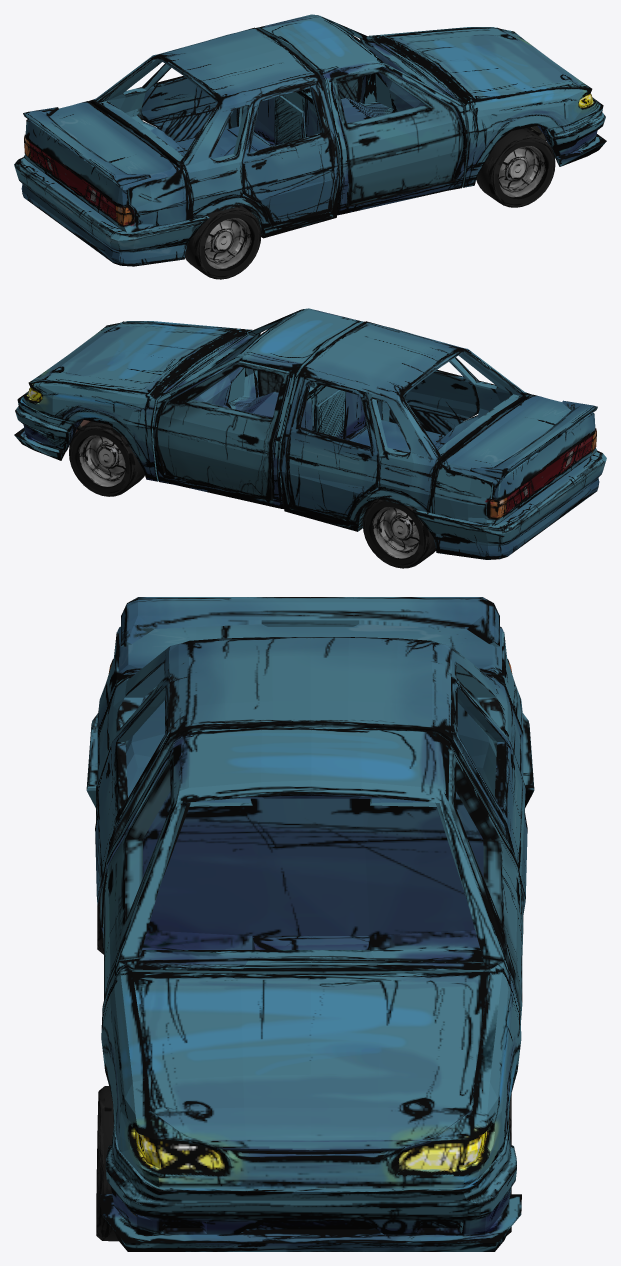
The picture shows the model from 3 angles, top to bottom: view 1: azimuth 30°, elevation 25°; view 2: azimuth 150°, elevation 25°; view 3: azimuth 270°, elevation 25°; orthographic projection. The views are drawn at different scales.
Visible parts, largest first — view 1: rear, front, right_front_door, front.001, hood, right_back_door, bumper_rear, hood_rear, rear.001, RR_wheel, RB_wheel, left_back_door (+3 smaller); view 2: rear, front, left_front_door, front.001, hood, left_back_door, bumper_rear, hood_rear, rear.001, LF_wheel, LR_wheel, right_back_door (+3 smaller); view 3: front, hood, rear, front.001, bumper_front, spoiler, hood_rear, left_front_door, right_front_door, left_back_door, right_back_door, RR_wheel (+2 smaller).
Part boxes in pixels (x1,y1,x2,y2): rear: [92, 27, 340, 238]; front: [254, 14, 467, 215]; right_front_door: [331, 67, 461, 205]; front.001: [368, 27, 598, 187]; hood: [385, 27, 582, 100]; right_back_door: [241, 82, 334, 225]; bumper_rear: [14, 157, 209, 266]; hood_rear: [25, 101, 179, 206]; rear.001: [24, 100, 191, 232]; RR_wheel: [476, 128, 555, 207]; RB_wheel: [185, 206, 261, 279]; left_back_door: [141, 67, 231, 141]; rear: [281, 321, 527, 531]; front: [153, 308, 366, 508]; left_front_door: [157, 361, 289, 500]; front.001: [22, 321, 252, 481]; hood: [39, 321, 235, 393]; left_back_door: [285, 375, 379, 519]; bumper_rear: [411, 450, 606, 559]; hood_rear: [441, 394, 595, 499]; rear.001: [429, 393, 596, 525]; LF_wheel: [69, 421, 144, 496]; LR_wheel: [362, 499, 435, 568]; right_back_door: [389, 361, 479, 435]; front: [101, 726, 520, 1009]; hood: [132, 972, 489, 1151]; rear: [96, 637, 524, 941]; front.001: [101, 958, 521, 1189]; bumper_front: [100, 1124, 521, 1251]; spoiler: [121, 597, 499, 646]; hood_rear: [117, 624, 503, 674]; left_front_door: [448, 749, 523, 1022]; right_front_door: [103, 752, 190, 999]; left_back_door: [451, 677, 527, 915]; right_back_door: [95, 677, 169, 903]; RR_wheel: [96, 1086, 118, 1241].
Size of the model in its own units: 437 by 139 by 169.
